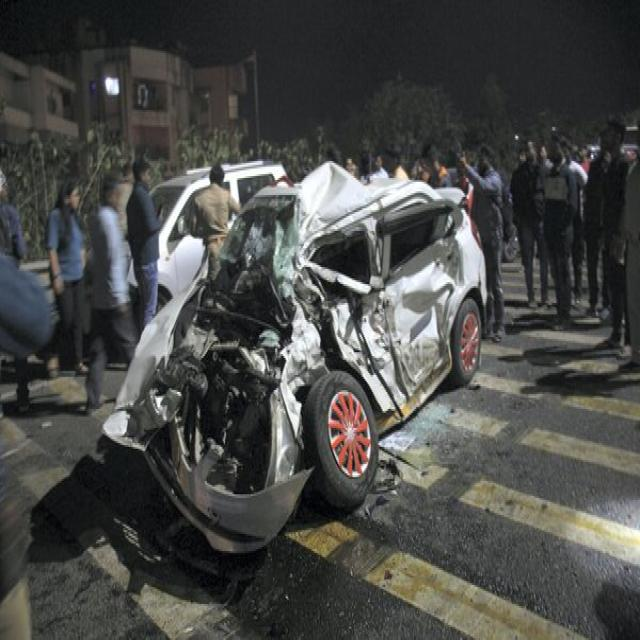accident: (104, 162, 486, 551)
